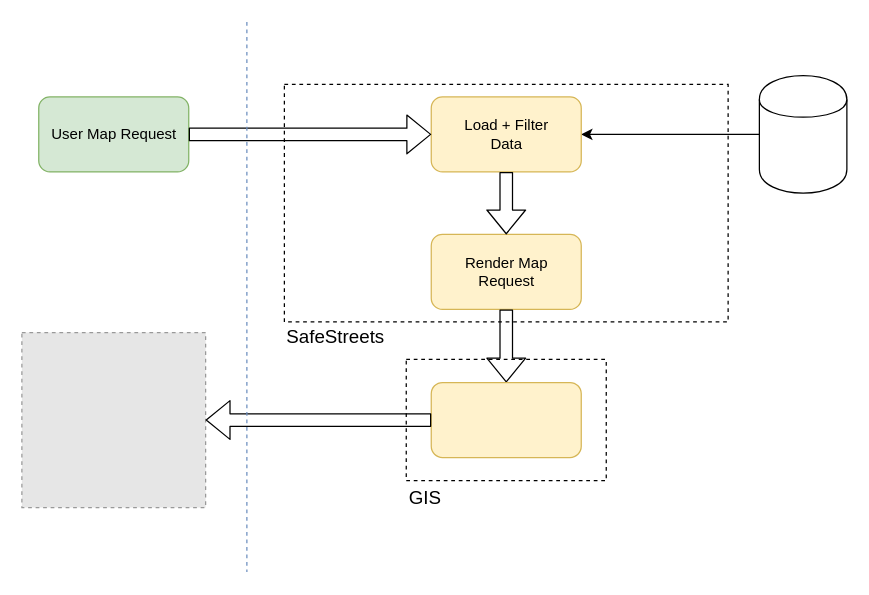
This 869x595 diagram has some shape labels left out. Grey dashed boxes stand in for pictures. The shapes that lost their labels are listed below. From the top down, each one's centre as x and y in pixels, then its label:
At [802,133]: "DB".
At [505,419]: "Render Map".
